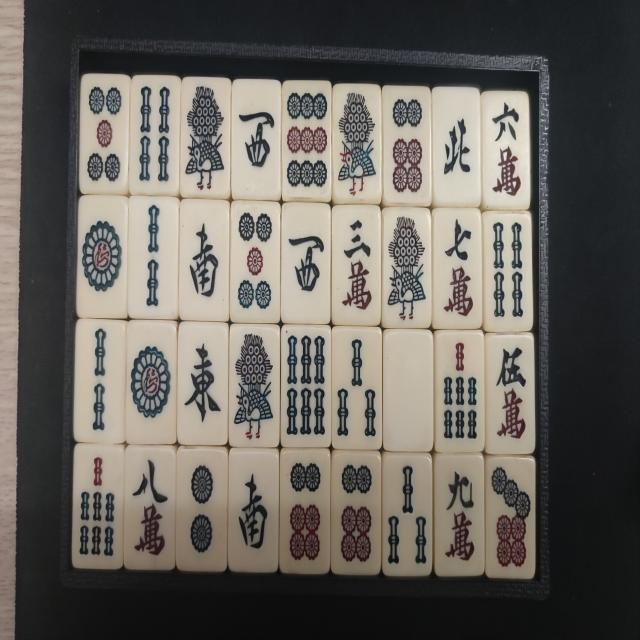hdw: (386, 334, 431, 446)
hwe: (182, 327, 226, 437)
hwn: (436, 90, 478, 200)
hws: (183, 202, 226, 316), (232, 453, 275, 562)
hww: (284, 206, 328, 316), (235, 82, 278, 194)
sb1: (232, 328, 278, 444), (386, 210, 430, 324), (184, 81, 227, 193), (335, 89, 378, 200)
sb2: (130, 201, 174, 315), (80, 323, 122, 438)
sb3: (334, 330, 378, 444), (386, 456, 429, 572)
sb4: (486, 216, 529, 328), (134, 79, 176, 190)
sb6: (284, 326, 328, 442)
sb7: (438, 334, 482, 446), (76, 447, 120, 559)
sc3: (335, 209, 378, 318)
sc5: (488, 338, 532, 448)
sc6: (486, 95, 526, 201)
sc7: (436, 210, 479, 322)
sc8: (128, 450, 173, 562)
sc9: (438, 456, 480, 569)
sd1: (128, 324, 175, 440), (79, 200, 125, 314)
sd2: (181, 455, 225, 563)
sd5: (233, 206, 277, 314), (84, 81, 125, 190)
sd6: (284, 452, 326, 567), (336, 454, 378, 568), (385, 90, 428, 200)
sd7: (490, 461, 532, 574)
sd9: (284, 86, 330, 195)
